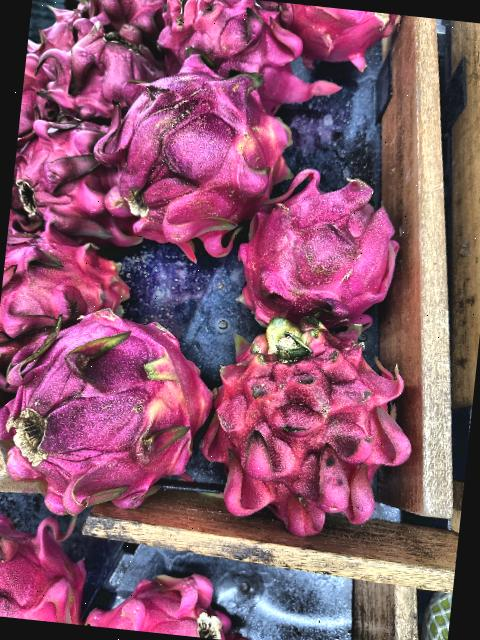buah-naga-matang: (200, 300, 422, 542), (0, 312, 219, 520), (107, 53, 297, 253), (230, 170, 418, 347), (141, 0, 337, 134), (0, 215, 138, 390), (8, 112, 136, 241), (42, 15, 172, 120), (0, 506, 92, 625), (270, 2, 396, 72)
